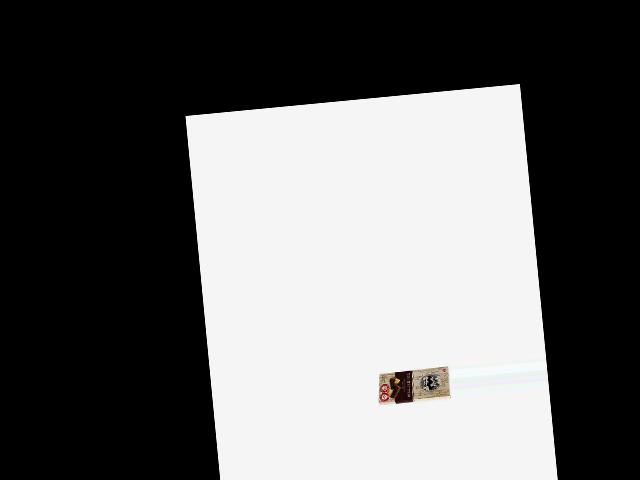chocolate: (374, 365, 451, 411)
